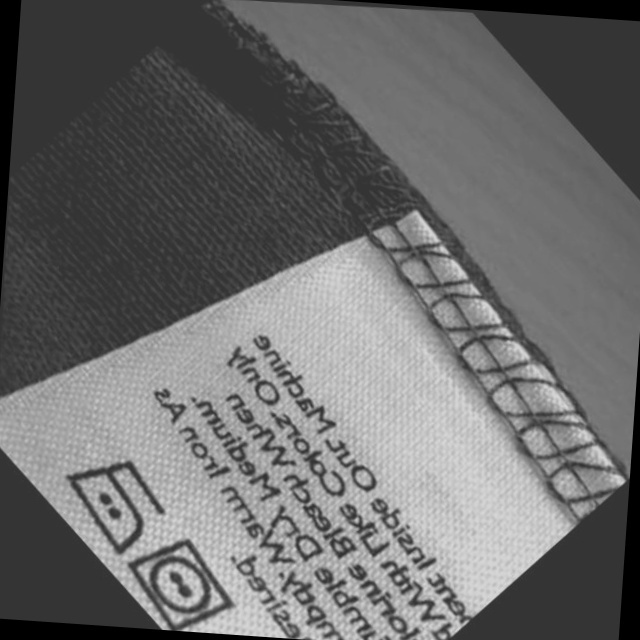iron_medium: (55, 454, 167, 555)
tumble_dry_medium: (121, 536, 236, 633)
